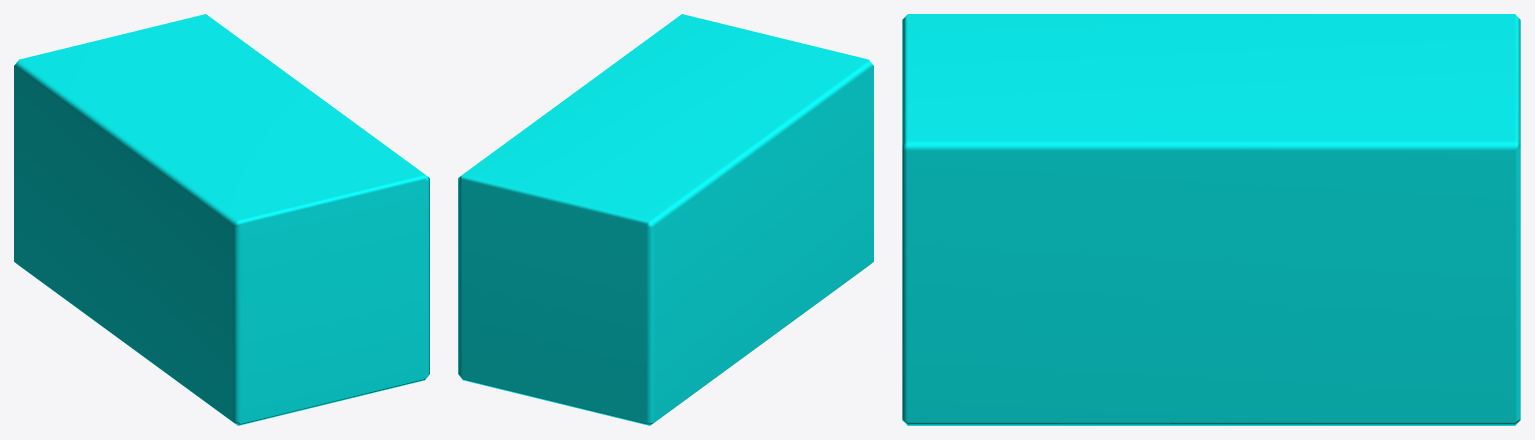
Rendered from Long_Closed_Cardboard_Box_low.fbx.
The picture shows the model from 3 angles, left to right: view 1: azimuth 30°, elevation 25°; view 2: azimuth 150°, elevation 25°; view 3: azimuth 270°, elevation 25°; orthographic projection. The views are drawn at different scales.
Visible parts, largest first — view 1: Square_Closed_Box_low; view 2: Square_Closed_Box_low; view 3: Square_Closed_Box_low.
Part boxes in pixels (x1=…): Square_Closed_Box_low: x1=14, y1=14, x2=429, y2=425; Square_Closed_Box_low: x1=458, y1=14, x2=873, y2=425; Square_Closed_Box_low: x1=902, y1=14, x2=1520, y2=425.
Bounding box in the file's own units: 250 × 250 × 491.
